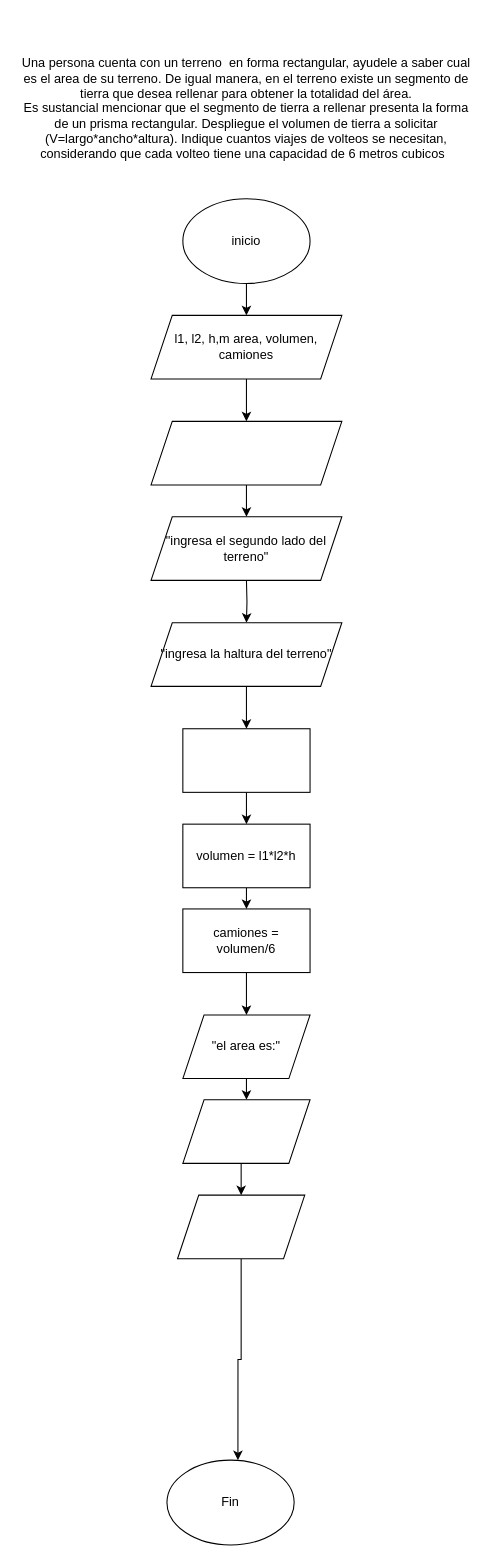
This 492x1563 diagram has some shape labels left out. Each missing label, with the box of its shape:
"el volumen es:": (182, 1099, 310, 1163)
"Ingresa el primer lado del terreno": (150, 420, 342, 485)
"la cantidad de camiones son:": (176, 1194, 305, 1259)
area = l1*l2: (182, 728, 310, 792)
